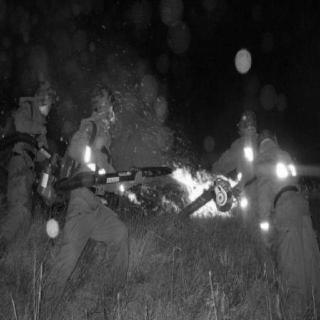other: (270, 160, 298, 181)
